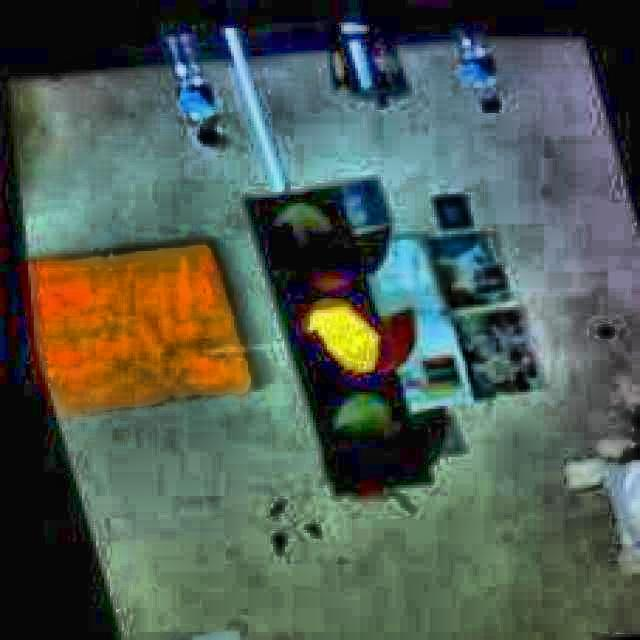yellow: (256, 186, 446, 488)
